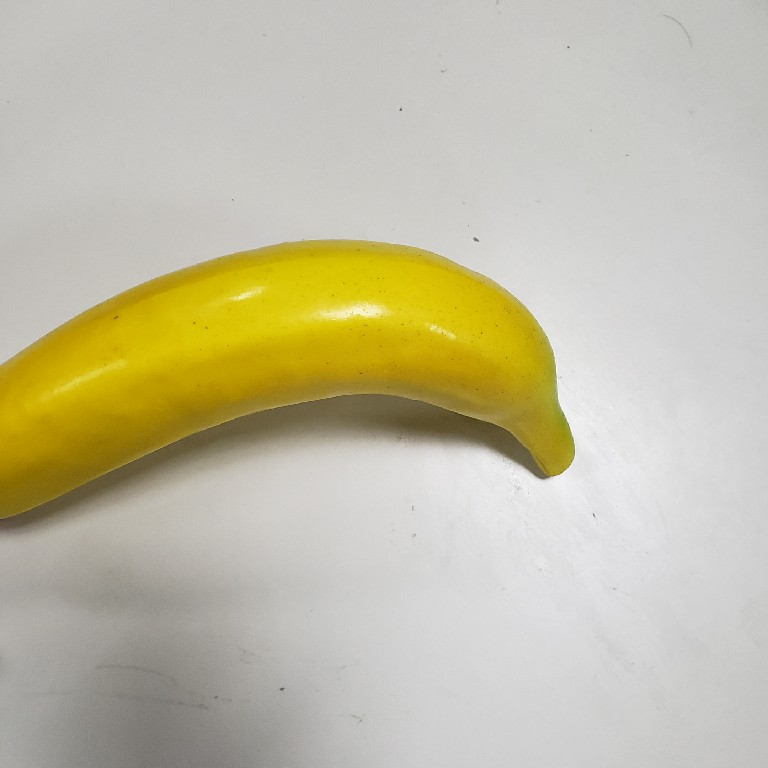fruit_banana: (1, 231, 581, 532)
